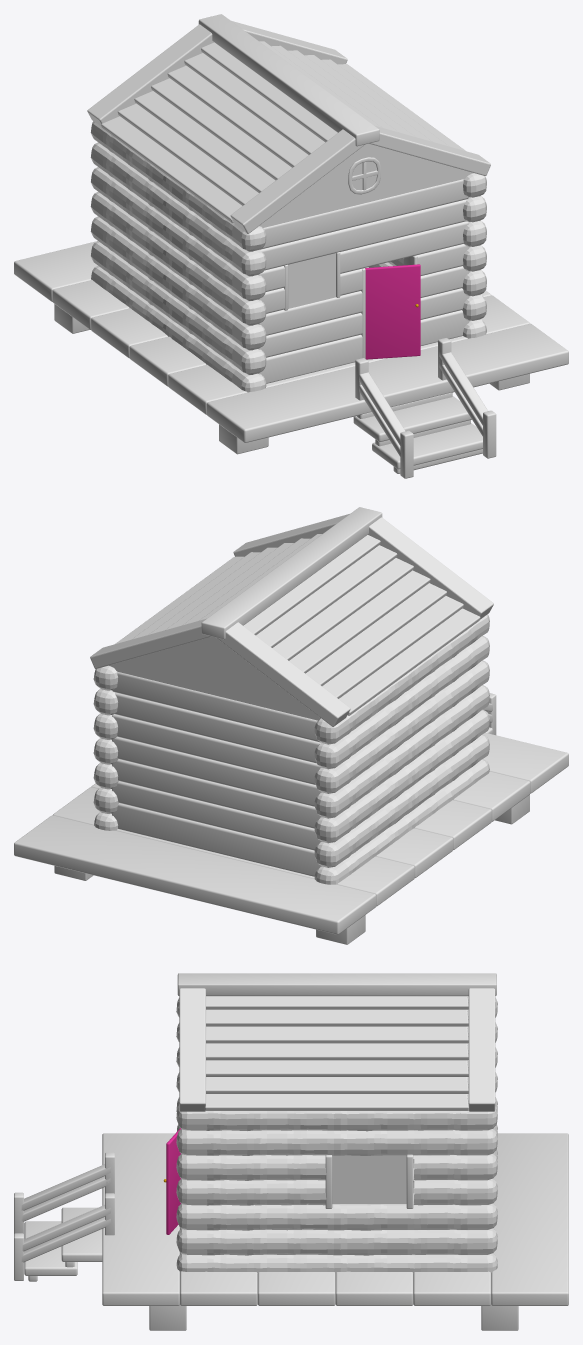
The model's file is Cabin1.fbx.
3 renders of one model, top to bottom at view 1: azimuth 30°, elevation 25°; view 2: azimuth 150°, elevation 25°; view 3: azimuth 270°, elevation 25°, orthographic.
Parts seen in each view (by area): view 1: Wall_Wood, Plane.001, Cube.002, Wall_cube, cube, Roof, Middle_roof, Door, stairs, Plane.003, Plane, Plane.002 (+3 smaller); view 2: Wall_cube, Wall_Wood, Plane.001, Cube.002, cube, Roof, Middle_roof, Plane.002; view 3: Wall_Wood, Plane.001, Cube.002, Middle_roof, cube, Plane.003, Plane.004, stairs, Plane.002, Door, Plane.005, Plane.006.
Boxes of the visible parts, x1,y1,x2,y2 form: Wall_Wood: [90, 121, 486, 392]; Plane.001: [14, 241, 568, 442]; Cube.002: [101, 41, 465, 223]; Wall_cube: [258, 179, 469, 383]; cube: [87, 20, 490, 233]; Roof: [259, 143, 473, 227]; Middle_roof: [198, 14, 379, 146]; Door: [365, 264, 420, 359]; stairs: [353, 396, 482, 469]; Plane.003: [359, 351, 487, 456]; Plane: [288, 253, 335, 308]; Plane.002: [54, 304, 529, 454]; Wall_cube: [112, 672, 322, 876]; Wall_Wood: [93, 614, 489, 884]; Plane.001: [14, 732, 568, 934]; Cube.002: [115, 534, 480, 715]; cube: [90, 514, 493, 726]; Roof: [109, 636, 320, 720]; Middle_roof: [201, 507, 382, 639]; Plane.002: [54, 795, 529, 944]; Wall_Wood: [176, 997, 497, 1273]; Plane.001: [102, 1133, 568, 1305]; Cube.002: [205, 996, 468, 1110]; Middle_roof: [177, 973, 496, 996]; cube: [179, 988, 495, 1111]; Plane.003: [21, 1164, 110, 1262]; Plane.004: [332, 1155, 406, 1203]; stairs: [24, 1207, 102, 1275]; Plane.002: [149, 1304, 518, 1330]; Door: [166, 1128, 180, 1234]; Plane.005: [14, 1192, 23, 1280]; Plane.006: [105, 1152, 114, 1235].
Size of the model in its own units: 546 by 446 by 800.
